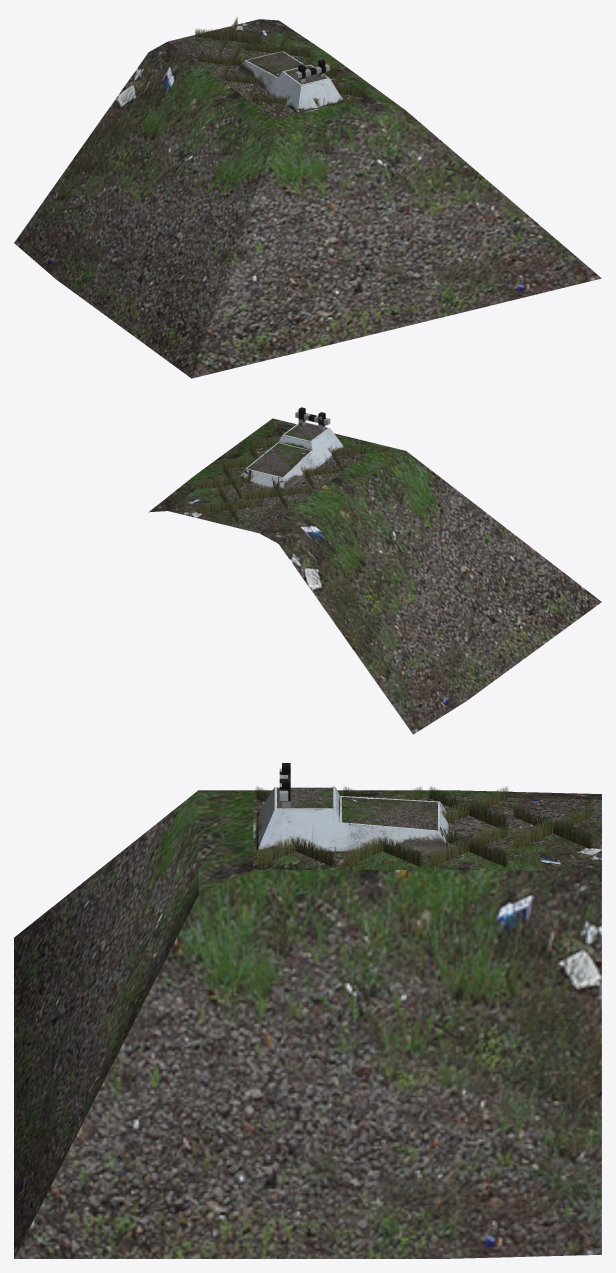
File: tupik.gltf
3 views of the same model, one above another, from view 1: azimuth 30°, elevation 25°; view 2: azimuth 150°, elevation 25°; view 3: azimuth 270°, elevation 25° (orthographic). The views are drawn at different scales.
Size of the model in its own units: 21.8 by 10.31 by 16.87.
Materials: 1 (1 with a texture image).
